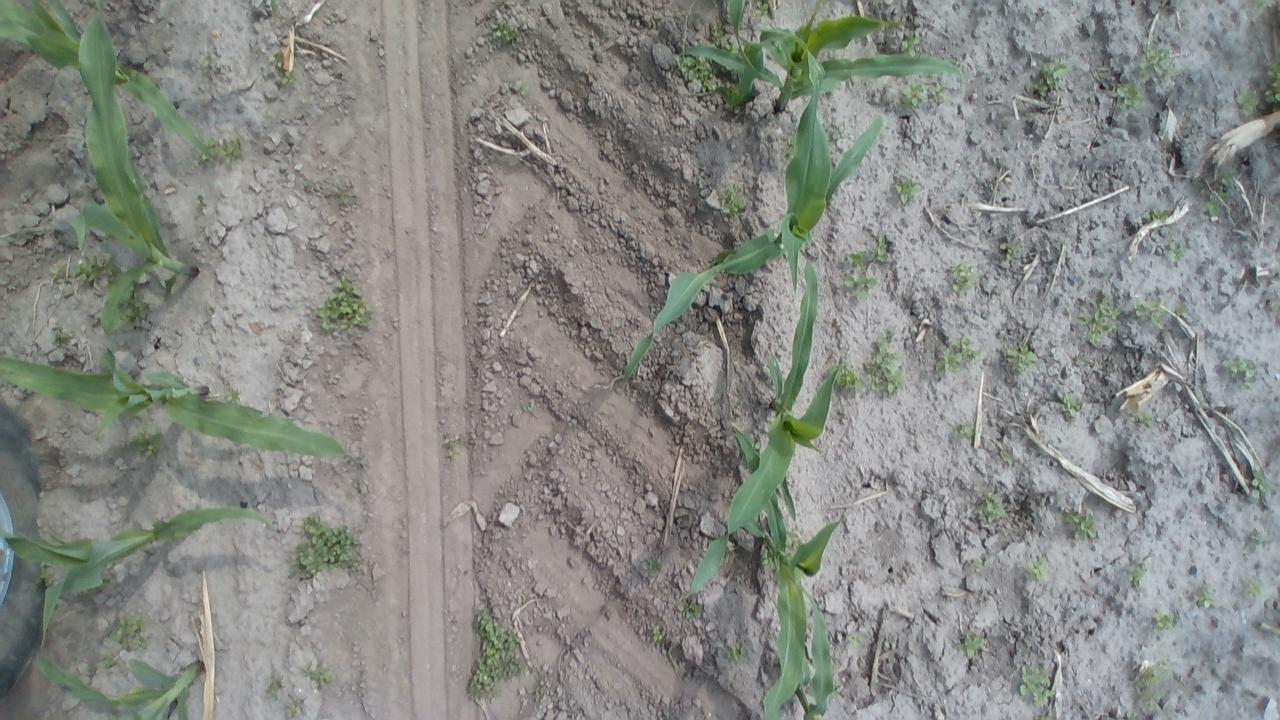Maize: (614, 35, 896, 401), (673, 246, 850, 594), (70, 0, 194, 389), (0, 342, 356, 463), (3, 499, 276, 644), (727, 419, 850, 720), (2, 0, 218, 158), (669, 8, 954, 116), (32, 647, 205, 718), (789, 585, 836, 720), (728, 0, 780, 81)
Weeds: (469, 607, 527, 698), (291, 512, 363, 580), (314, 274, 374, 334), (865, 332, 903, 397), (1080, 294, 1124, 347), (673, 54, 723, 96), (934, 332, 980, 375), (1018, 662, 1057, 706), (1137, 42, 1178, 80), (106, 613, 148, 650), (1135, 661, 1168, 708), (198, 134, 248, 165), (1032, 58, 1066, 99), (72, 255, 119, 284), (127, 424, 163, 460), (1219, 354, 1257, 388), (116, 290, 147, 330), (1063, 509, 1099, 542), (972, 490, 1006, 524), (1003, 343, 1040, 374), (1134, 296, 1168, 328), (900, 78, 931, 110), (846, 272, 877, 303), (718, 184, 748, 216), (1114, 80, 1145, 110), (1199, 188, 1229, 218), (489, 18, 519, 46), (835, 363, 861, 395), (950, 262, 977, 292), (894, 176, 919, 206), (1236, 88, 1262, 116), (302, 662, 334, 684), (1150, 606, 1176, 633), (960, 629, 984, 658), (1265, 59, 1280, 104), (899, 32, 924, 57), (1024, 556, 1048, 582), (1062, 392, 1084, 419), (1143, 206, 1172, 226), (1192, 585, 1216, 609), (264, 672, 285, 699), (1162, 240, 1186, 263), (926, 79, 948, 104), (1128, 562, 1148, 589), (1250, 471, 1270, 498), (870, 238, 890, 264), (998, 240, 1024, 260), (710, 20, 730, 46), (640, 557, 666, 576), (679, 600, 703, 620), (508, 78, 530, 99), (284, 694, 304, 717), (761, 544, 777, 572), (726, 640, 746, 662), (1243, 578, 1264, 598), (846, 250, 870, 267), (1248, 530, 1266, 552), (442, 434, 458, 458), (34, 566, 52, 587), (952, 422, 974, 439), (49, 264, 69, 282), (278, 69, 298, 87), (96, 653, 118, 669), (755, 0, 774, 18), (845, 631, 865, 648), (828, 124, 846, 142), (784, 131, 796, 158), (1220, 164, 1234, 187), (784, 528, 800, 548), (49, 328, 69, 344), (1130, 412, 1152, 426), (200, 50, 216, 68), (534, 682, 552, 698), (224, 387, 240, 404), (967, 556, 984, 572), (650, 626, 665, 644), (266, 51, 280, 68), (999, 448, 1014, 463), (522, 400, 538, 414), (1174, 302, 1188, 318), (828, 682, 840, 700), (1253, 0, 1271, 12), (749, 437, 762, 452), (268, 0, 280, 16), (1052, 240, 1064, 255), (1076, 354, 1088, 366), (340, 195, 350, 204), (304, 179, 312, 187)
